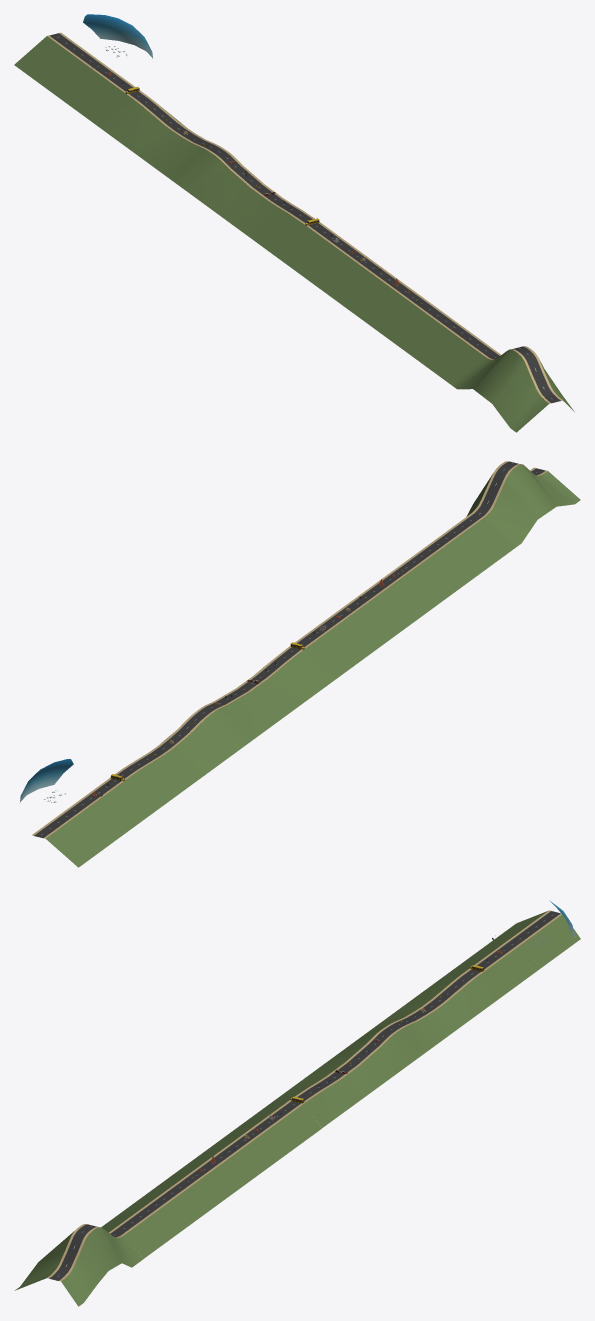
Rendered from level_000.glb.
3 renders of one model, top to bottom at view 1: azimuth 30°, elevation 25°; view 2: azimuth 150°, elevation 25°; view 3: azimuth 330°, elevation 25°, orthographic.
Visible parts, largest first — view 1: road_easy_00, road_easy_06, road_mountain_angle_50 (1), road_easy_00_small_1, road_easy_00_small_1 (1), SkyDome; view 2: road_easy_00, road_easy_06, road_mountain_angle_50 (1), road_easy_00_small_1, road_easy_00_small_1 (1), SkyDome; view 3: road_easy_06, road_easy_00, road_mountain_angle_50 (1), road_easy_00_small_1, road_easy_00_small_1 (1).
Boxes of the visible parts, box(x1,y1,x2,y2) form: road_easy_00: box(273, 222, 497, 384); road_easy_06: box(95, 91, 314, 254); road_mountain_angle_50 (1): box(452, 346, 574, 432); road_easy_00_small_1: box(14, 32, 100, 94); road_easy_00_small_1 (1): box(54, 62, 141, 123); SkyDome: box(83, 14, 152, 58); road_easy_00: box(294, 515, 515, 677); road_easy_06: box(115, 646, 337, 808); road_mountain_angle_50 (1): box(466, 461, 580, 547); road_easy_00_small_1: box(32, 806, 118, 867); road_easy_00_small_1 (1): box(72, 777, 158, 837); SkyDome: box(19, 759, 73, 803); road_easy_06: box(258, 969, 499, 1127); road_easy_00: box(101, 1100, 321, 1258); road_mountain_angle_50 (1): box(15, 1224, 143, 1306); road_easy_00_small_1: box(477, 910, 580, 968); road_easy_00_small_1 (1): box(437, 940, 540, 997).
Size of what is drawn, in the model's own units: 58.1 by 37.51 by 549.
4 materials, 4 textured.
